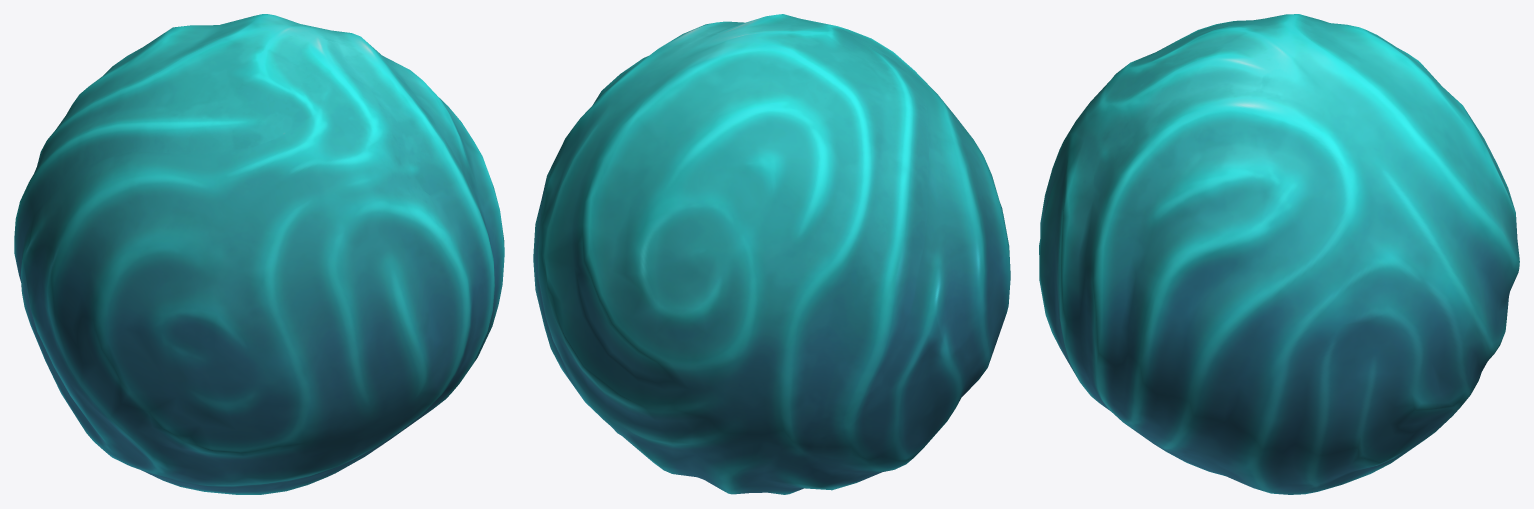
File: Planet_IceStorm_Blue.fbx
The picture shows the model from 3 angles, left to right: view 1: azimuth 30°, elevation 25°; view 2: azimuth 150°, elevation 25°; view 3: azimuth 270°, elevation 25°; orthographic projection.
Parts seen in each view (by area): view 1: Planet_IceStorm_Blue; view 2: Planet_IceStorm_Blue; view 3: Planet_IceStorm_Blue.
Part boxes in pixels (x1,y1,x2,y2): Planet_IceStorm_Blue: [14, 14, 504, 494]; Planet_IceStorm_Blue: [533, 14, 1010, 494]; Planet_IceStorm_Blue: [1039, 14, 1519, 494].
Size of the model in its own units: 206 by 204 by 203.
